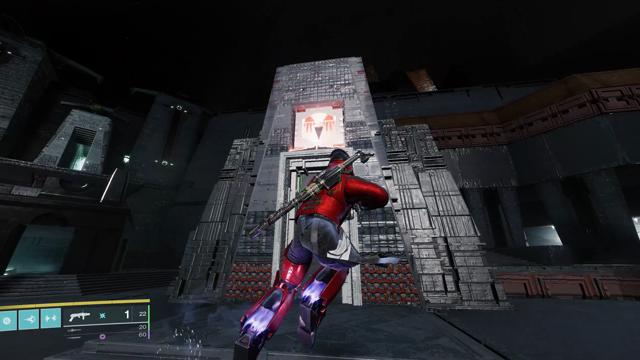give: (302, 112, 336, 144)
